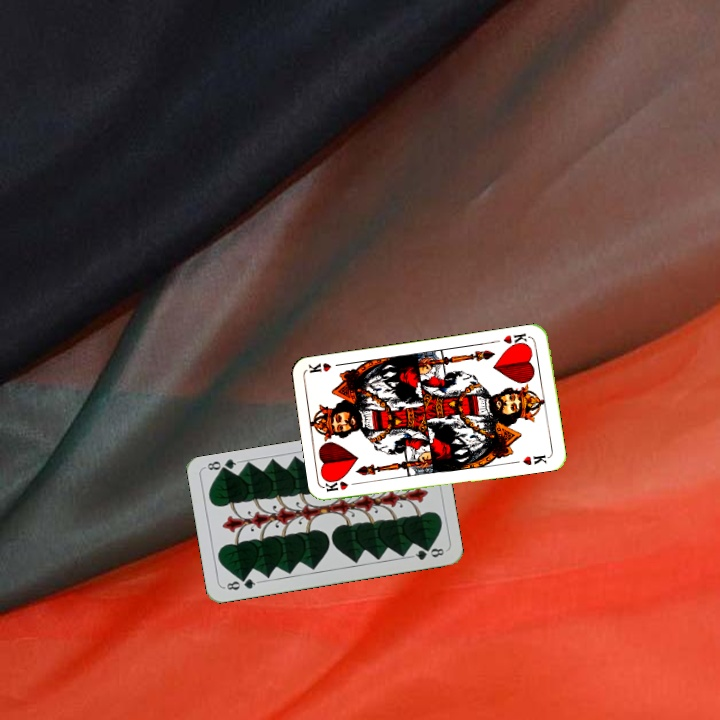G8: (220, 574, 261, 593)
HK: (499, 329, 533, 350), (322, 477, 363, 494)
